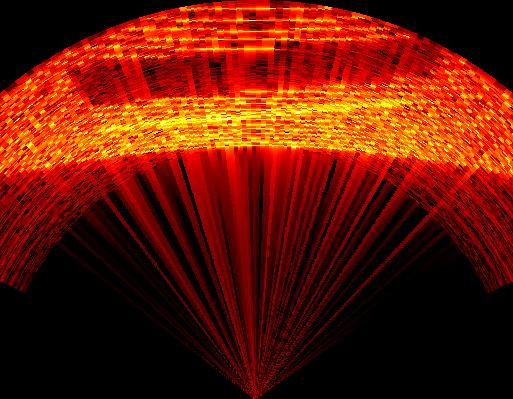pipe: (68, 44, 442, 107)
